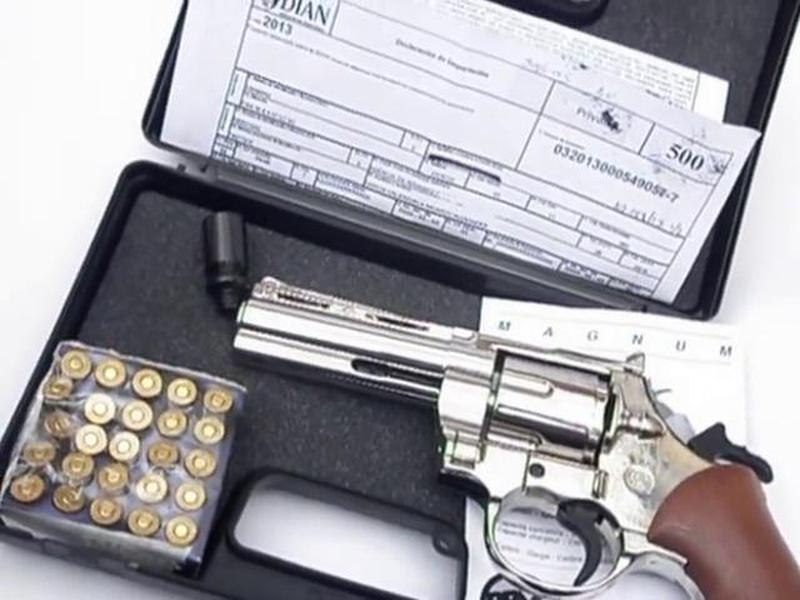Revolver: (245, 255, 800, 597)
